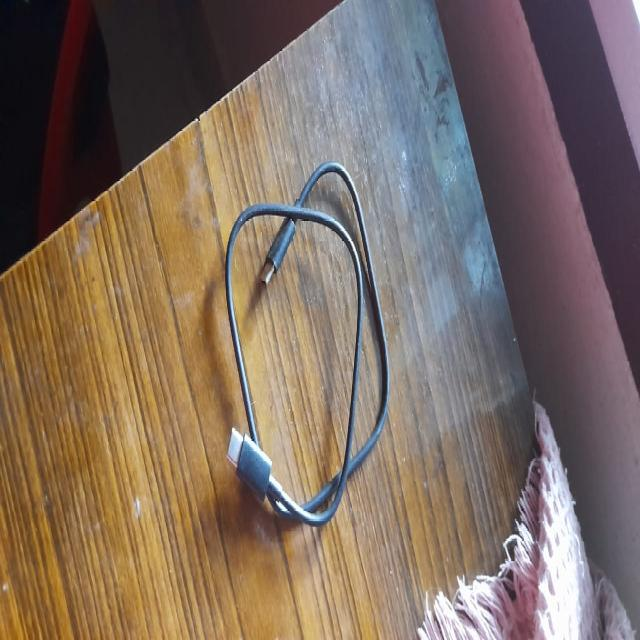Charger - Recyclable: (224, 158, 390, 528)
